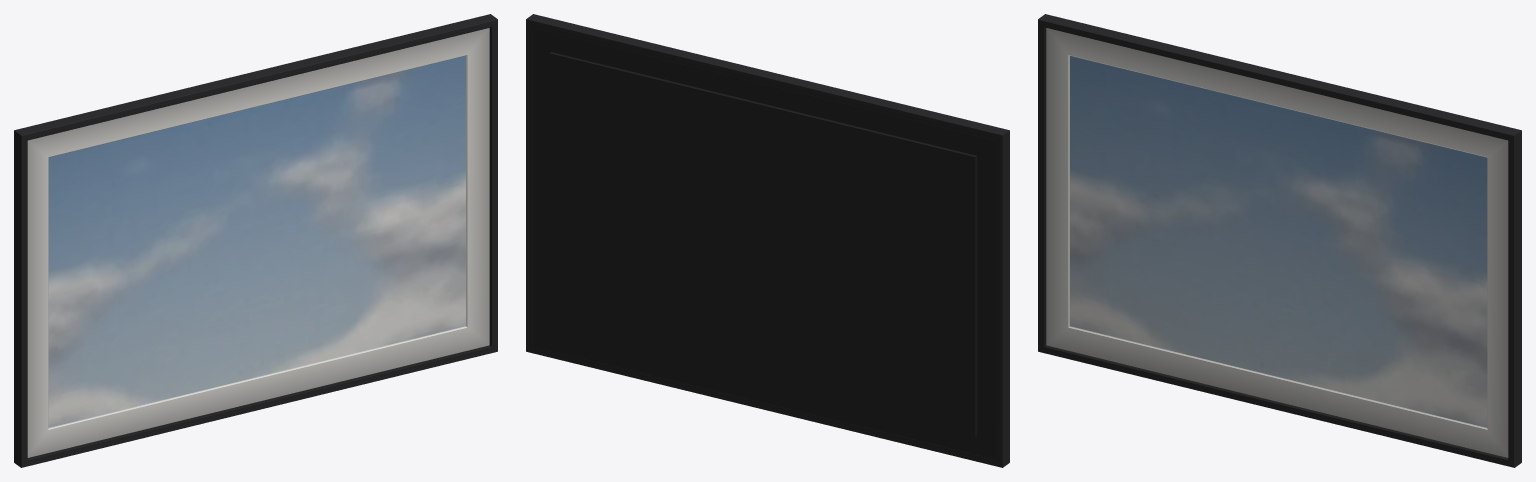
The model's file is art_clouds.gltf.
3 views of the same model, side by side, from view 1: azimuth 30°, elevation 25°; view 2: azimuth 150°, elevation 25°; view 3: azimuth 330°, elevation 25° (orthographic).
Parts seen in each view (by area): view 1: Art_Clouds_Art, Art_Clouds_Mat, Art_Clouds_Frame; view 2: Art_Clouds_Spacer, Art_Clouds_Backing, Art_Clouds_Frame; view 3: Art_Clouds_Art, Art_Clouds_Mat, Art_Clouds_Frame.
Boxes of the visible parts, x1=… form: Art_Clouds_Art: x1=48, y1=56, x2=465, y2=427; Art_Clouds_Mat: x1=27, y1=28, x2=489, y2=457; Art_Clouds_Frame: x1=14, y1=14, x2=497, y2=467; Art_Clouds_Spacer: x1=549, y1=52, x2=977, y2=436; Art_Clouds_Backing: x1=532, y1=27, x2=996, y2=459; Art_Clouds_Frame: x1=526, y1=14, x2=1009, y2=467; Art_Clouds_Art: x1=1070, y1=56, x2=1487, y2=427; Art_Clouds_Mat: x1=1046, y1=28, x2=1508, y2=457; Art_Clouds_Frame: x1=1038, y1=14, x2=1521, y2=467.
Size of the model in its own units: 1.5 by 1 by 0.05.
4 materials, 1 textured.
